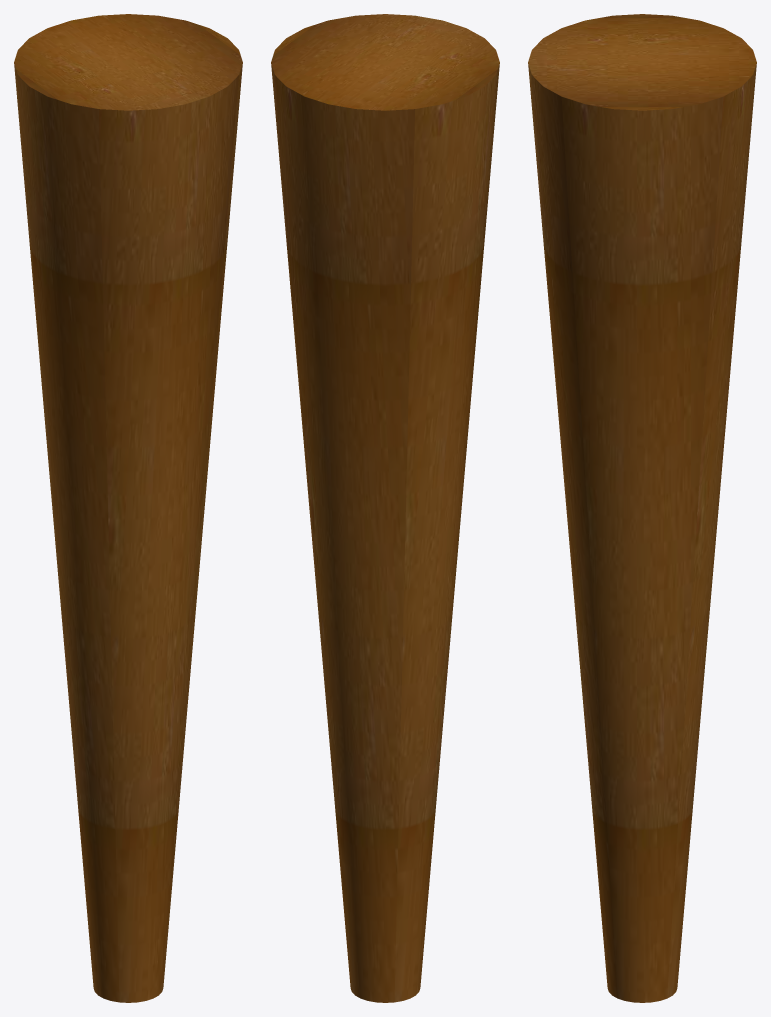
File: Torch.FBX
3 renders of one model, left to right at view 1: azimuth 30°, elevation 25°; view 2: azimuth 150°, elevation 25°; view 3: azimuth 270°, elevation 25°, orthographic.
Visible parts, largest first — view 1: Cone001; view 2: Cone001; view 3: Cone001.
Boxes of the visible parts, x1,y1,x2,y2 form: Cone001: (14,14,242,1002); Cone001: (271,14,499,1002); Cone001: (528,14,756,1002).
Bounding box in the file's own units: 15.41 × 68.75 × 15.41.
